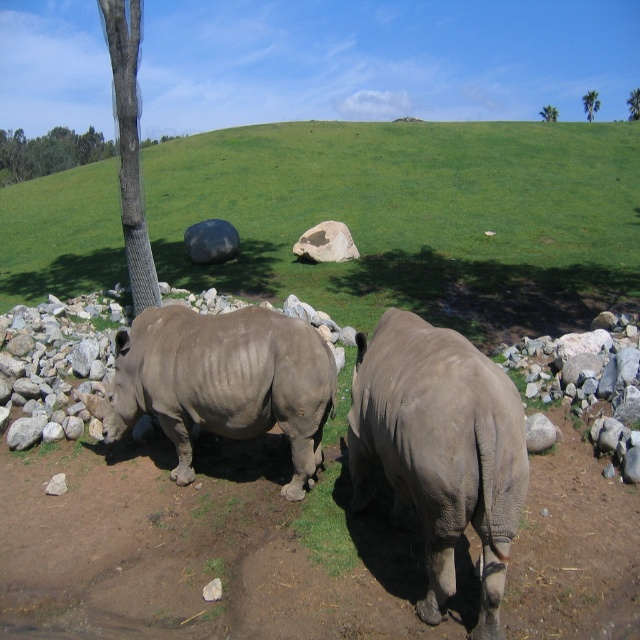Rhinoceros: (350, 307, 525, 630), (65, 303, 338, 503)
